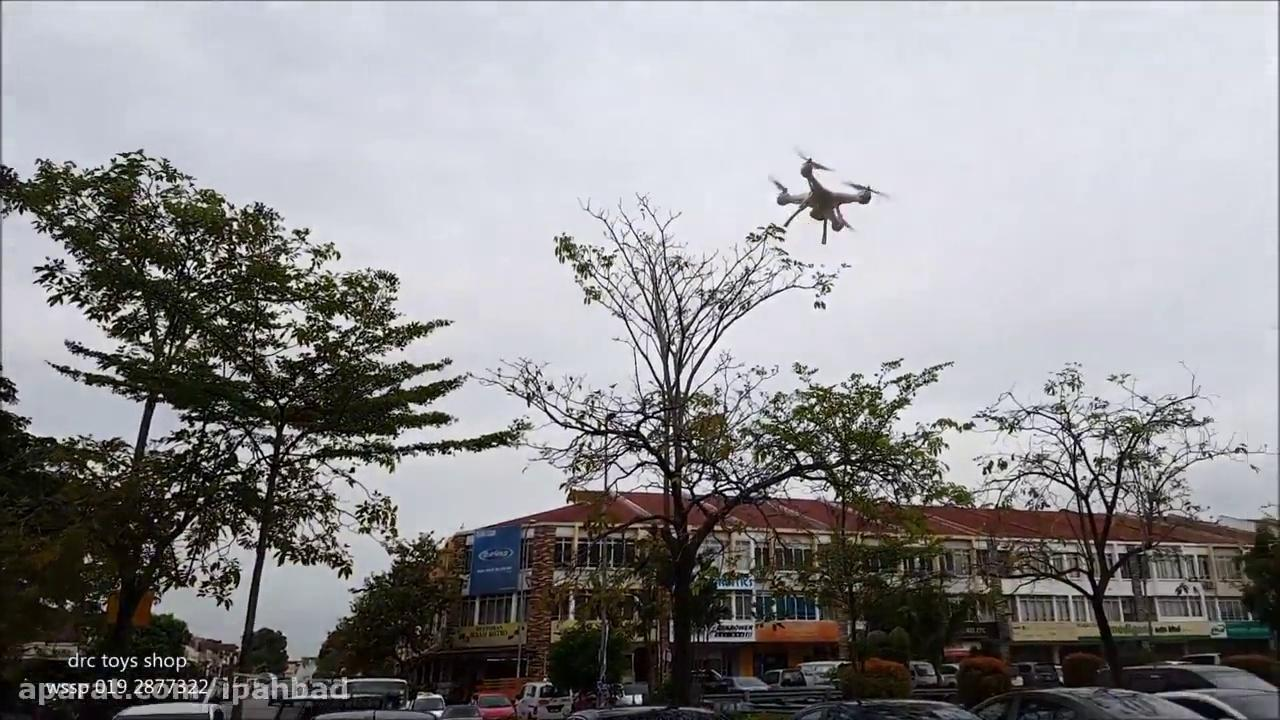drone: (756, 153, 893, 246)
